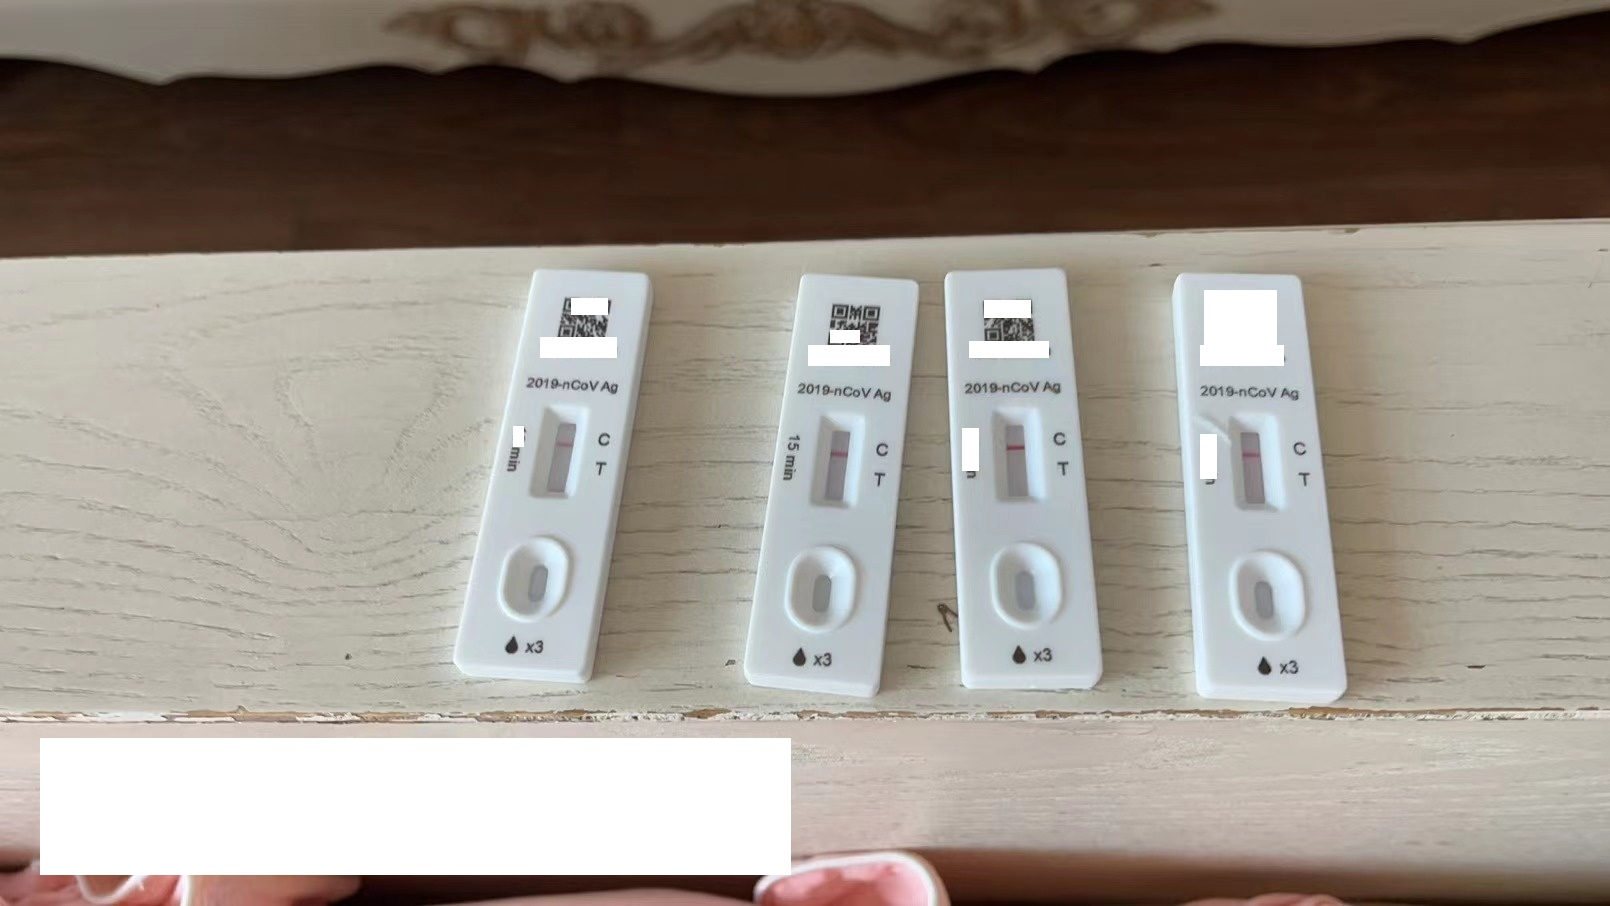negative: (1229, 414, 1280, 512), (993, 407, 1041, 506), (814, 414, 861, 508), (537, 406, 584, 498)
